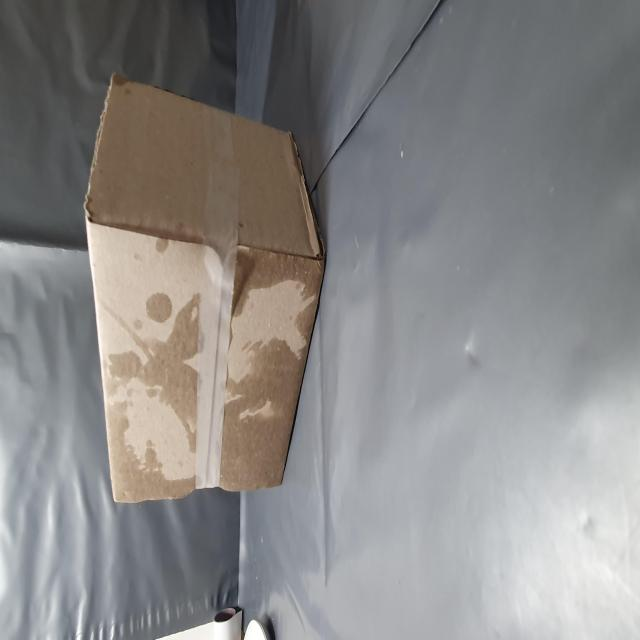wet: (77, 188, 234, 568)
